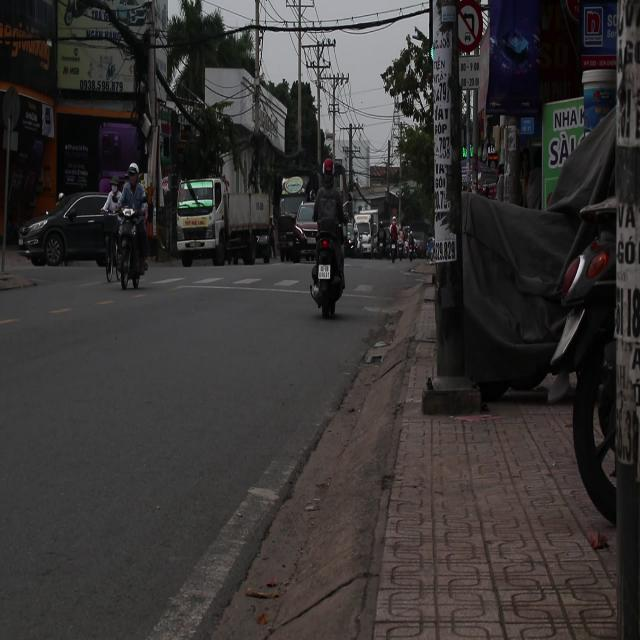car: (19, 191, 118, 269), (296, 202, 319, 252)
motorbike: (307, 215, 347, 319), (115, 206, 145, 292)
truck: (175, 178, 273, 267), (351, 210, 380, 258)
